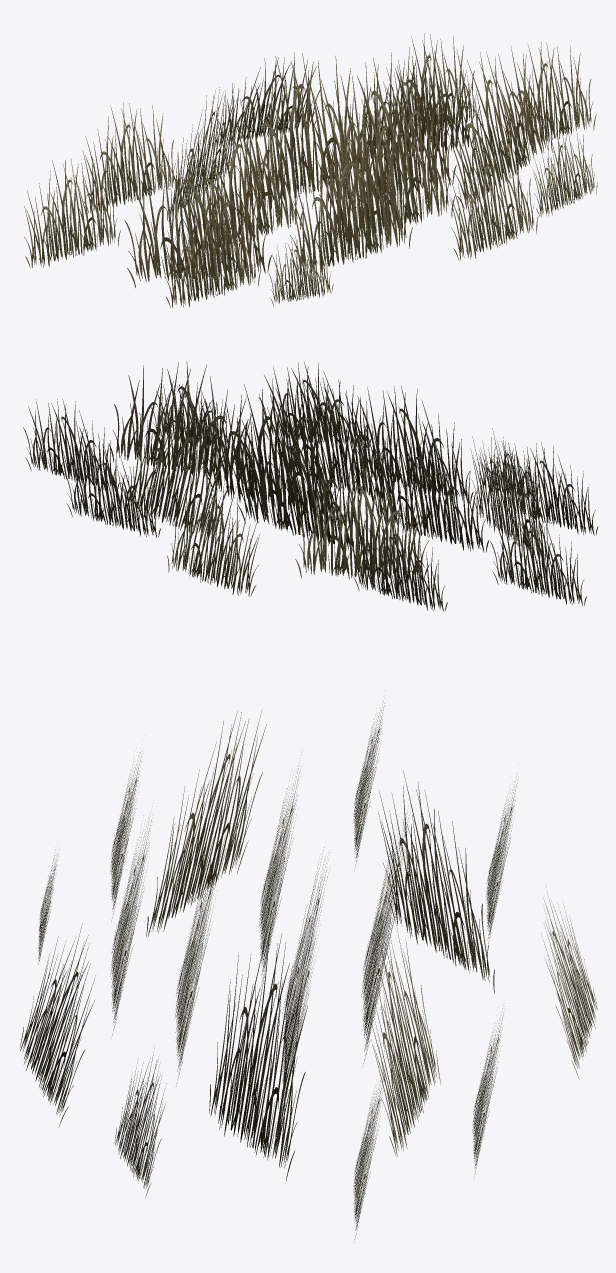
The model's file is SM_Grass_smallClump.FBX.
The picture shows the model from 3 angles, top to bottom: view 1: azimuth 30°, elevation 25°; view 2: azimuth 150°, elevation 25°; view 3: azimuth 270°, elevation 25°; orthographic projection. The views are drawn at different scales.
Visible parts, largest first — view 1: SM_Grass_smallClump; view 2: SM_Grass_smallClump; view 3: SM_Grass_smallClump.
Part boxes in pixels (<box>): SM_Grass_smallClump: <box>24,33,597,307</box>; SM_Grass_smallClump: <box>23,361,598,611</box>; SM_Grass_smallClump: <box>19,701,597,1239</box>.
Size of what is drawn, in the model's own units: 310 by 172 by 81.8.
